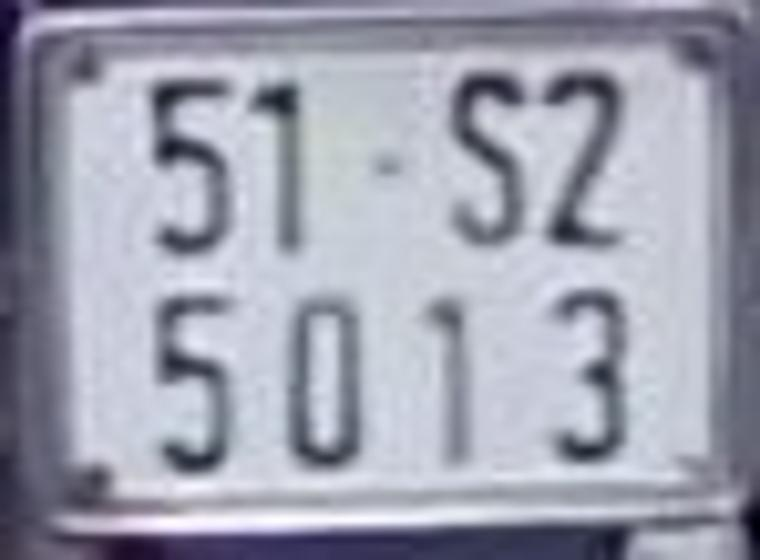-: (366, 158, 399, 171)
0: (286, 297, 362, 464)
1: (411, 295, 471, 465), (251, 79, 302, 249)
2: (543, 71, 616, 245)
3: (554, 292, 627, 464)
5: (147, 78, 230, 250), (151, 296, 232, 472)
S: (446, 72, 517, 242)
